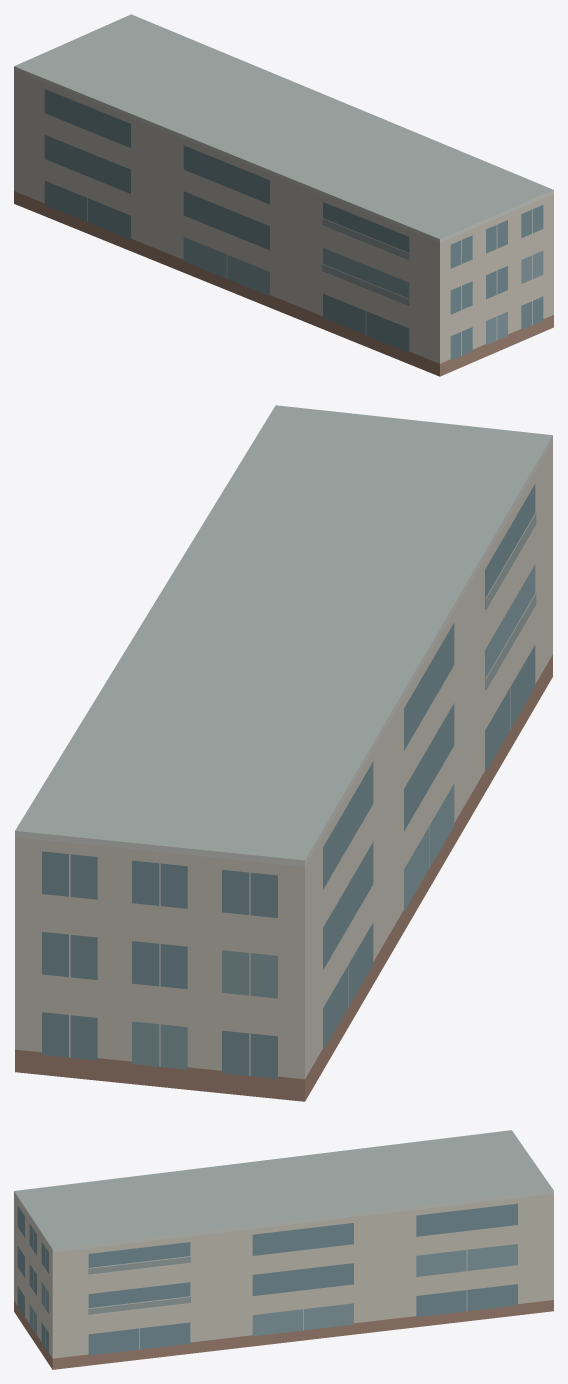
File: survey-upis-33034887.glb
The picture shows the model from 3 angles, top to bottom: view 1: azimuth 30°, elevation 25°; view 2: azimuth 150°, elevation 25°; view 3: azimuth 270°, elevation 25°; orthographic projection. The views are drawn at different scales.
Visible parts, largest first — view 1: survey-upis-33034887.tmp; view 2: survey-upis-33034887.tmp; view 3: survey-upis-33034887.tmp.
Boxes of the visible parts, <box> form: survey-upis-33034887.tmp: <box>14,14,553,376</box>; survey-upis-33034887.tmp: <box>15,405,552,1101</box>; survey-upis-33034887.tmp: <box>14,1130,553,1369</box>.
Size of the model in its own units: 19.39 by 9.15 by 37.12.
